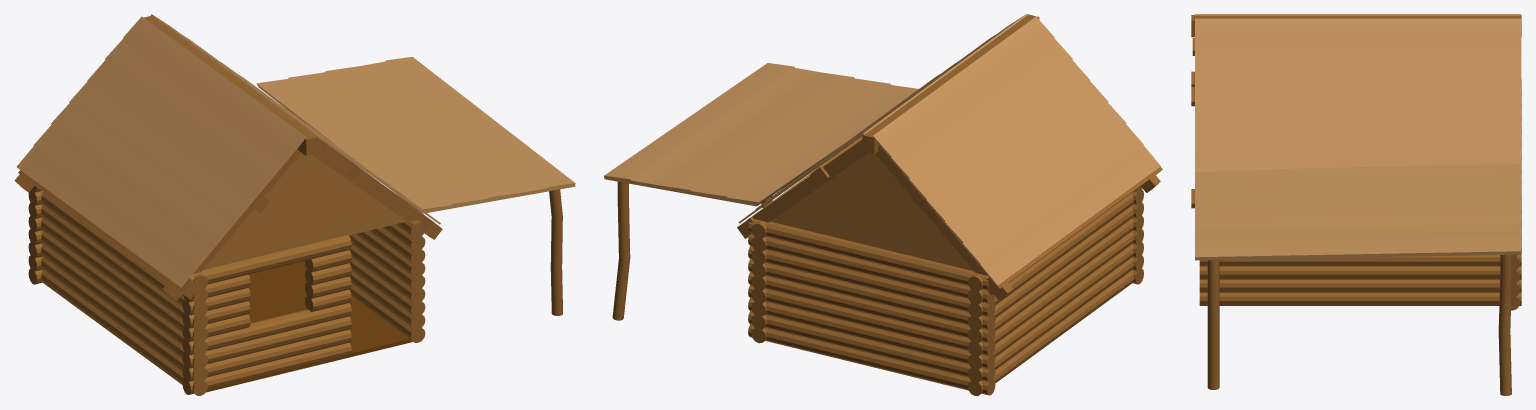
The model's file is Haus_2.fbx.
The picture shows the model from 3 angles, left to right: view 1: azimuth 30°, elevation 25°; view 2: azimuth 150°, elevation 25°; view 3: azimuth 270°, elevation 25°; orthographic projection.
Parts seen in each view (by area): view 1: Dach1, pCylinder36, Dachstuhl, Dachbalken; view 2: Dach1, pCylinder36, Dachstuhl2, Dachbalken; view 3: Dach1, pCylinder36, Dachbalken.
Boxes of the visible parts, x1=… form: Dach1: x1=16, y1=14, x2=575, y2=315; pCylinder36: x1=28, y1=186, x2=425, y2=395; Dachstuhl: x1=163, y1=141, x2=439, y2=300; Dachbalken: x1=18, y1=16, x2=442, y2=299; Dach1: x1=604, y1=14, x2=1160, y2=320; pCylinder36: x1=748, y1=186, x2=1143, y2=395; Dachstuhl2: x1=737, y1=140, x2=1013, y2=300; Dachbalken: x1=740, y1=14, x2=1162, y2=295; Dach1: x1=1195, y1=14, x2=1521, y2=395; pCylinder36: x1=1199, y1=79, x2=1521, y2=310; Dachbalken: x1=1191, y1=15, x2=1521, y2=208.
Bounding box in the file's own units: 741 × 446 × 530.
